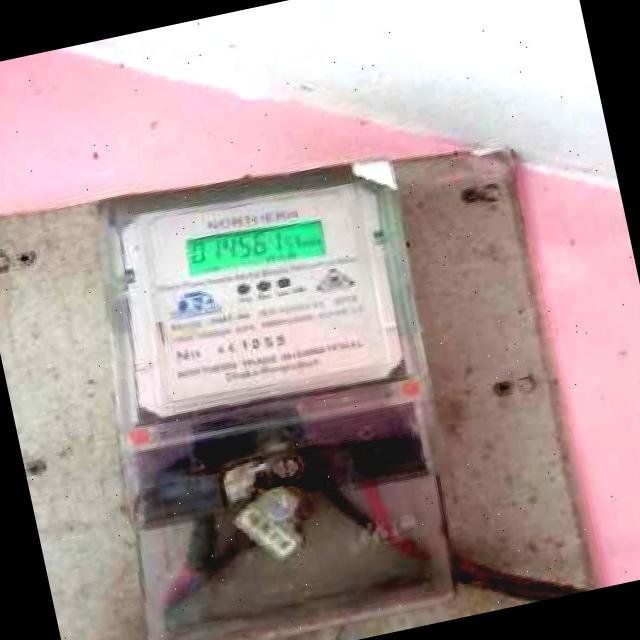LCD: (174, 202, 335, 292)
